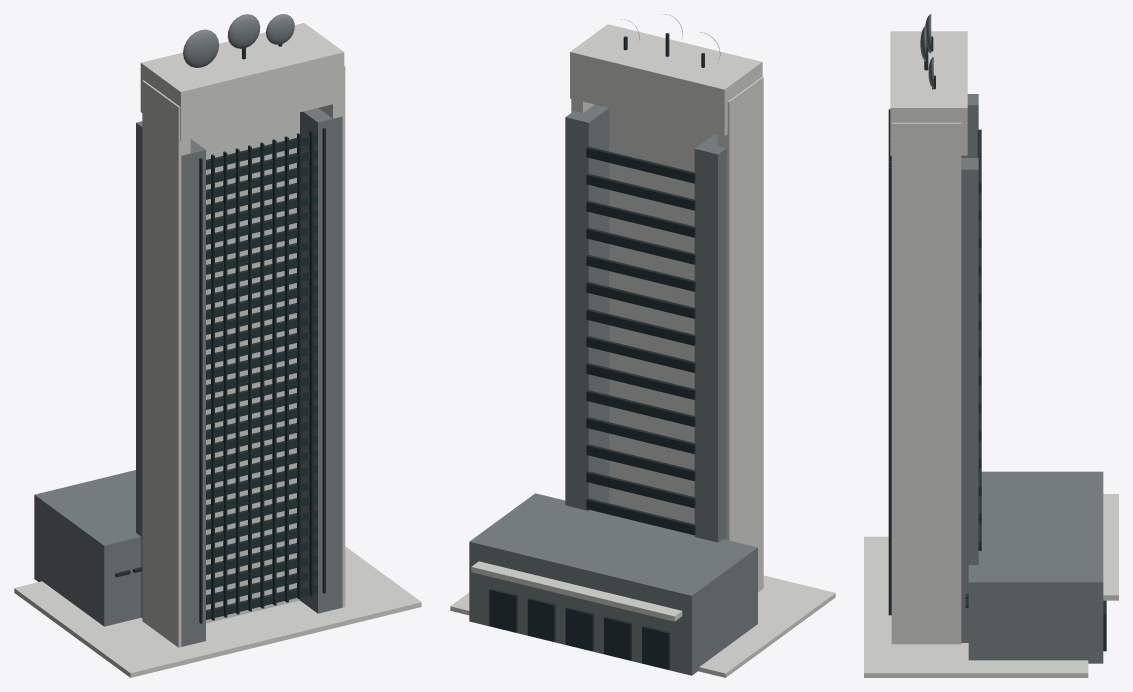
Rendered from comcentre.glb.
3 renders of one model, left to right at view 1: azimuth 30°, elevation 25°; view 2: azimuth 150°, elevation 25°; view 3: azimuth 270°, elevation 25°, orthographic. The views are drawn at different scales.
Visible parts, largest first — view 1: tower-frame/left-frame, service-cores/east-core, service-cores/west-core, roof-crown/telecom-crown, entrance-plaza/plaza, tower-frame/rear-slab, equipment-podium/podium-mass, tower-frame/right-frame, vertical-mullions/mullion-6, vertical-mullions/mullion-9, vertical-mullions/mullion-3, vertical-mullions/mullion-10 (+41 smaller); view 2: equipment-podium/podium-mass, tower-frame/rear-slab, tower-frame/left-frame, service-cores/west-core, roof-crown/telecom-crown, service-cores/east-core, entrance-plaza/plaza, equipment-podium/rear-service-canopy, rear-window-ribbons/rear-ribbon-3, rear-window-ribbons/rear-ribbon-8, rear-window-ribbons/rear-ribbon-16, rear-window-ribbons/rear-ribbon-4 (+15 smaller); view 3: tower-frame/right-frame, equipment-podium/podium-mass, entrance-plaza/plaza, service-cores/west-core, roof-crown/telecom-crown, vertical-mullions/mullion-11, equipment-podium/rear-service-canopy, service-cores/east-core.
Part boxes in pixels (x1,y1,x2,y2): tower-frame/left-frame: (142,80,190,647); service-cores/east-core: (136,121,205,646); service-cores/west-core: (300,108,342,613); roof-crown/telecom-crown: (140,23,344,141); entrance-plaza/plaza: (14,546,421,677); tower-frame/rear-slab: (191,112,299,623); equipment-podium/podium-mass: (34,470,141,626); tower-frame/right-frame: (318,66,345,607); vertical-mullions/mullion-6: (260,142,264,608); vertical-mullions/mullion-9: (297,133,301,599); vertical-mullions/mullion-3: (223,151,227,617); vertical-mullions/mullion-10: (309,130,313,596); equipment-podium/podium-mass: (469,493,757,675); tower-frame/rear-slab: (609,108,714,523); tower-frame/left-frame: (717,77,763,591); service-cores/west-core: (565,104,609,510); roof-crown/telecom-crown: (570,24,762,135); service-cores/east-core: (694,134,726,542); entrance-plaza/plaza: (450,575,835,677); equipment-podium/rear-service-canopy: (471,561,682,621); rear-window-ribbons/rear-ribbon-3: (586,498,695,535); rear-window-ribbons/rear-ribbon-8: (586,363,695,399); rear-window-ribbons/rear-ribbon-16: (586,146,695,183); rear-window-ribbons/rear-ribbon-4: (586,471,695,508); tower-frame/right-frame: (891,122,961,644); equipment-podium/podium-mass: (968,471,1103,663); entrance-plaza/plaza: (864,536,1088,677); service-cores/west-core: (961,158,978,642); roof-crown/telecom-crown: (890,31,967,155); vertical-mullions/mullion-11: (888,167,891,615); equipment-podium/rear-service-canopy: (1103,494,1118,600); service-cores/east-core: (961,94,978,157).
Bounding box in the file's own units: 13 × 25.77 × 10.22.
